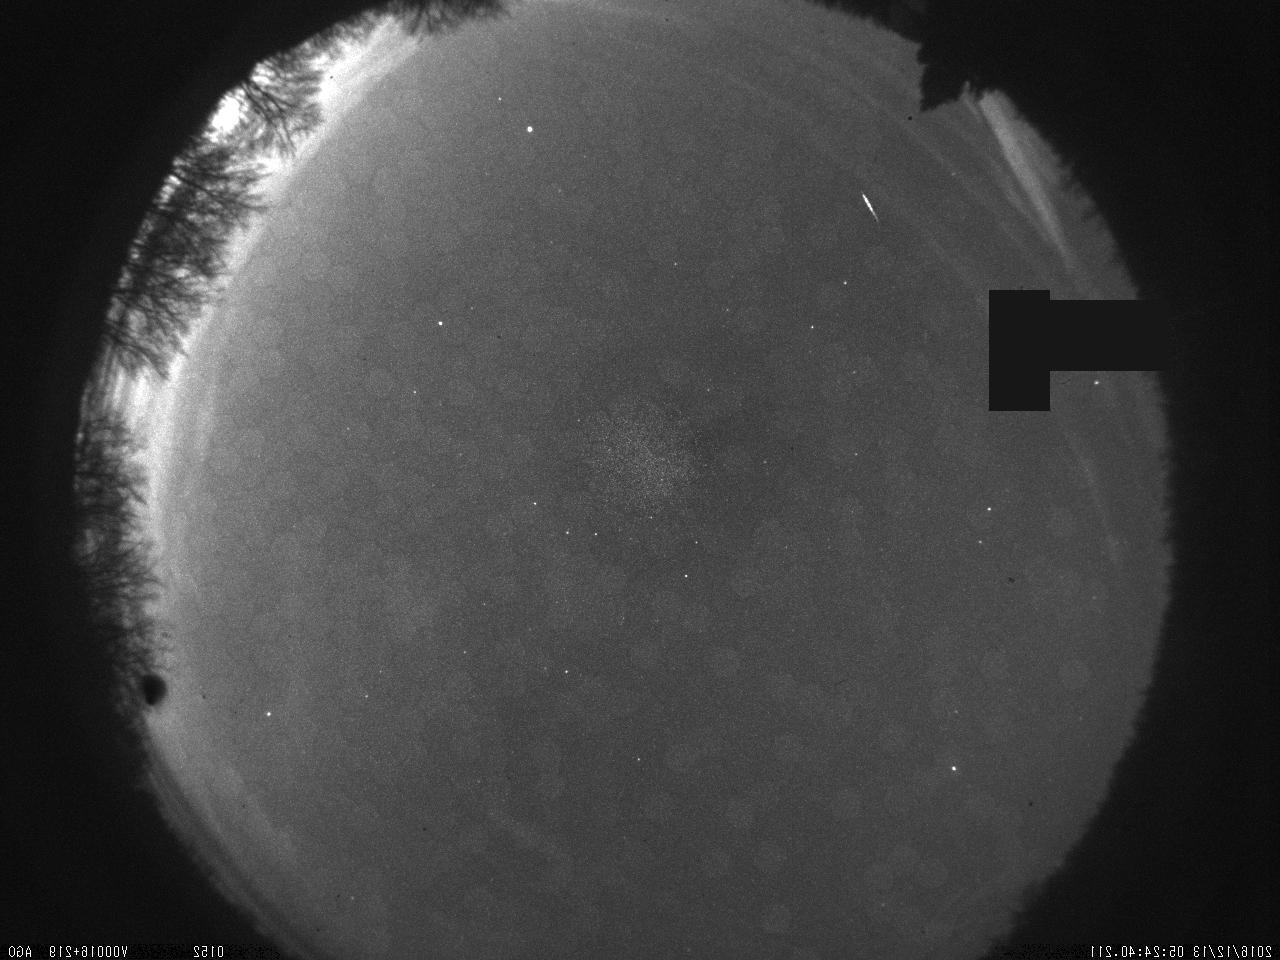meteor: (856, 185, 882, 228)
